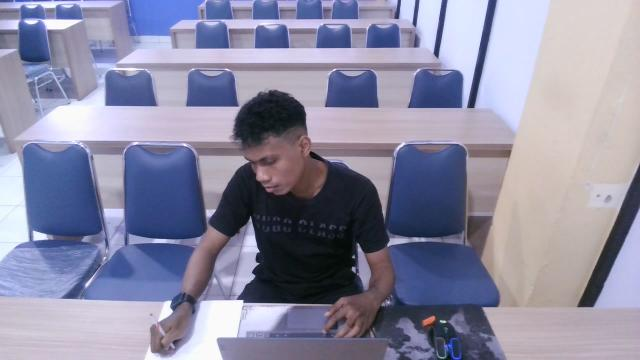Normal_Writing: (136, 79, 402, 360)
